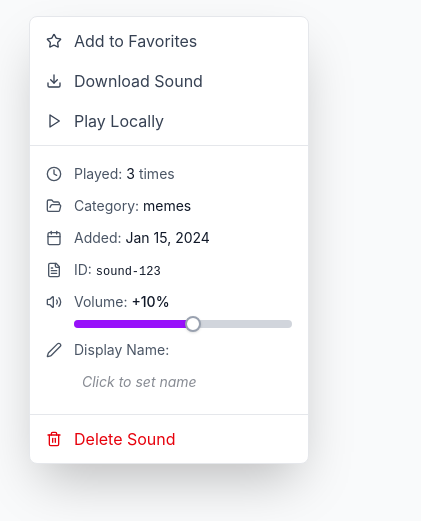
Scenario: ContextMenu - display name editing › enters edit mode, saves successfully, and shows new name
# Initially shows placeholder
Click the text "Click to set name" at (139, 382), box x1=82 y1=373 x2=197 y2=390
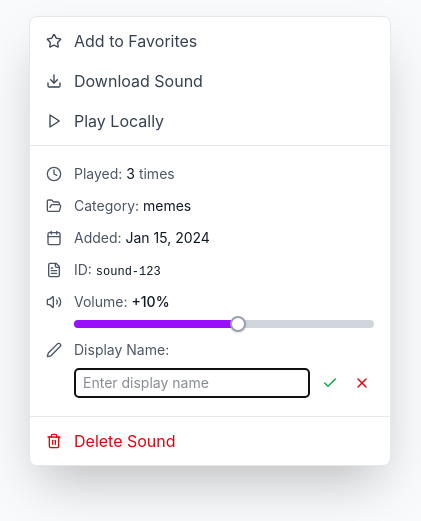
Type "Nice Name" into the field with placeholder "Enter display name" at (192, 383), box x1=74 y1=368 x2=310 y2=398
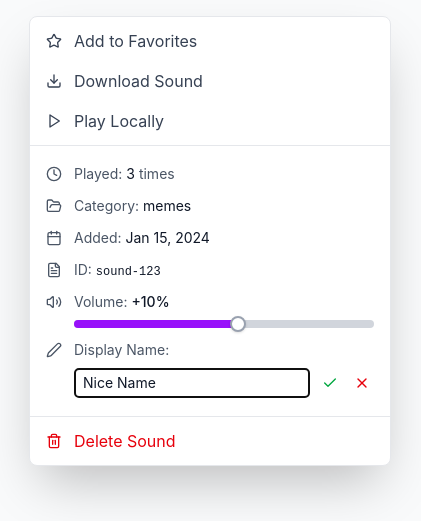
Click the button named "save" at (330, 383), box x1=318 y1=371 x2=342 y2=395
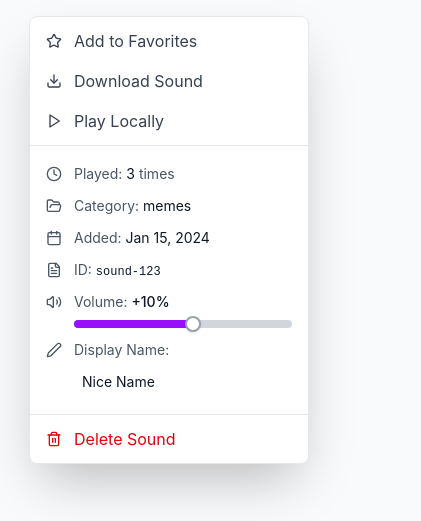
Result: the text "Nice Name" is shown at x1=82 y1=373 x2=155 y2=390
